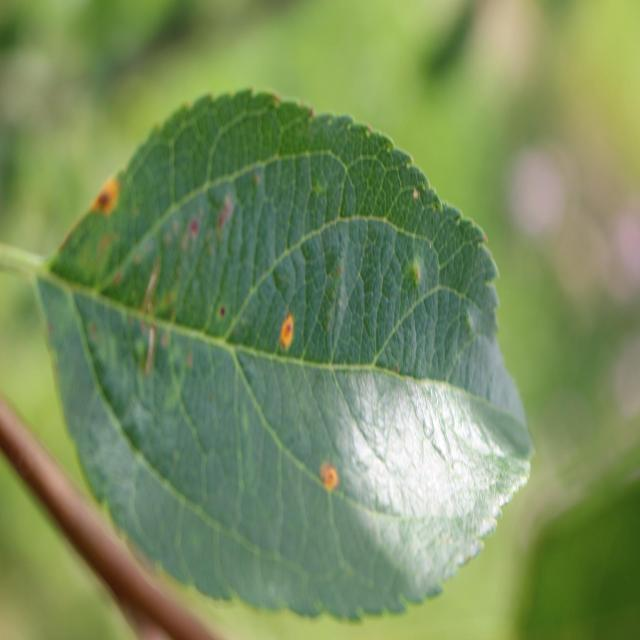Rust: (307, 440, 346, 519), (85, 170, 134, 228), (271, 303, 315, 366)
